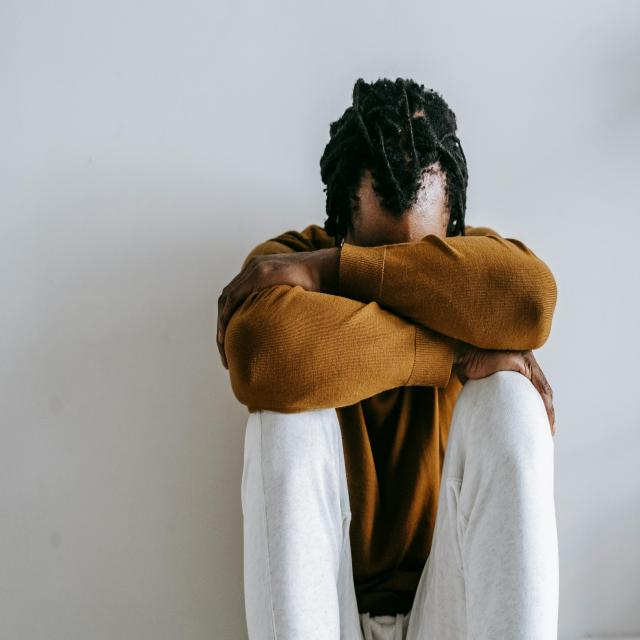sit: (199, 47, 585, 640)
